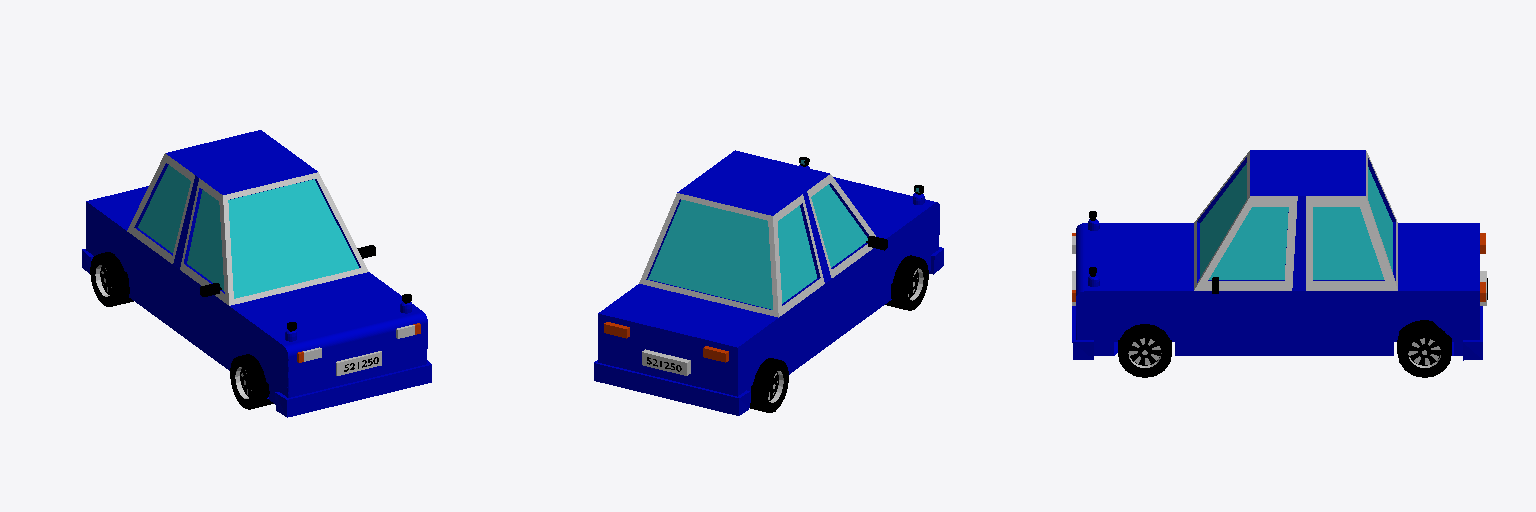
Rendered from cocheVoxel.obj.
The picture shows the model from 3 angles: view 1: azimuth 30°, elevation 25°; view 2: azimuth 150°, elevation 25°; view 3: azimuth 270°, elevation 25°; orthographic projection.
Visible parts, largest first — view 1: Text, Cylinder_004, Cylinder_001; view 2: Text, Cylinder_001, Cylinder_004; view 3: Text, Cylinder_004, Cylinder_001.
Boxes of the visible parts, <box> form: Text: <box>82,130,431,417</box>; Cylinder_004: <box>90,252,133,306</box>; Cylinder_001: <box>230,354,273,409</box>; Text: <box>594,150,943,415</box>; Cylinder_001: <box>885,255,928,310</box>; Cylinder_004: <box>750,358,788,412</box>; Text: <box>1072,150,1487,360</box>; Cylinder_004: <box>1397,320,1451,377</box>; Cylinder_001: <box>1118,324,1171,377</box>.
Size of the model in its own units: 114 by 105 by 238.